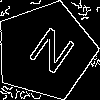N: (20, 25, 78, 83)
